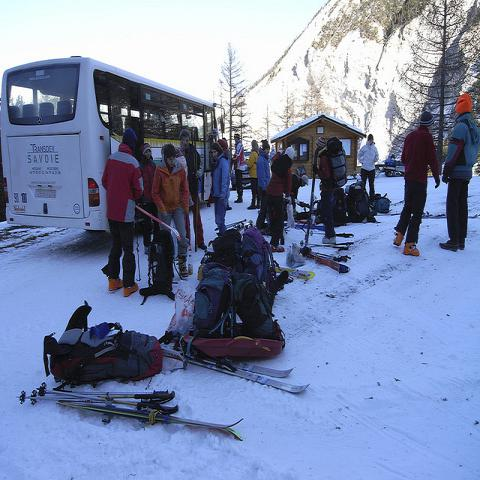bus: (0, 58, 226, 232)
